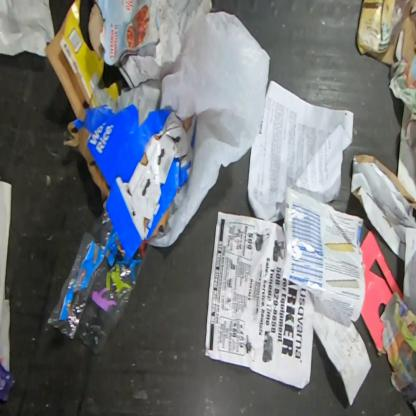cardboard: (63, 104, 197, 260), (44, 0, 119, 122), (359, 230, 404, 357), (356, 0, 415, 67)
soft_plastic: (148, 11, 271, 248), (45, 210, 148, 356)
